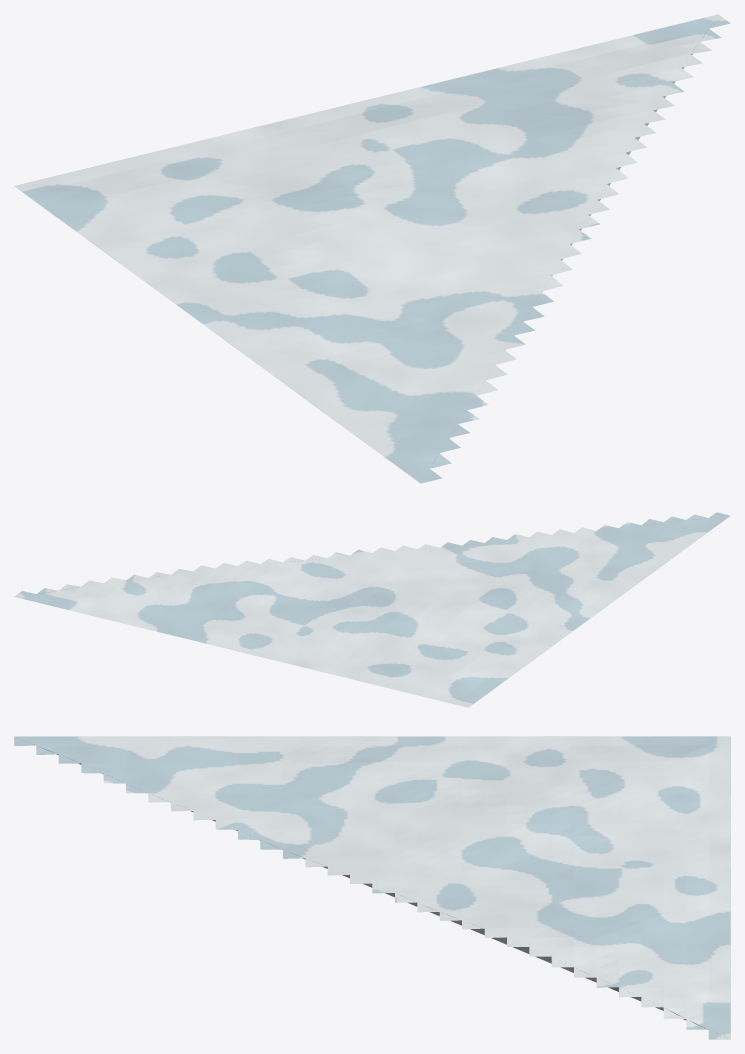
The model's file is Snow_Flat_09_SW.obj.
3 views of the same model, one above another, from view 1: azimuth 30°, elevation 25°; view 2: azimuth 150°, elevation 25°; view 3: azimuth 270°, elevation 25° (orthographic). The views are drawn at different scales.
Size of the model in its own units: 10 by 0.1208 by 10.
1 material, 1 textured.
